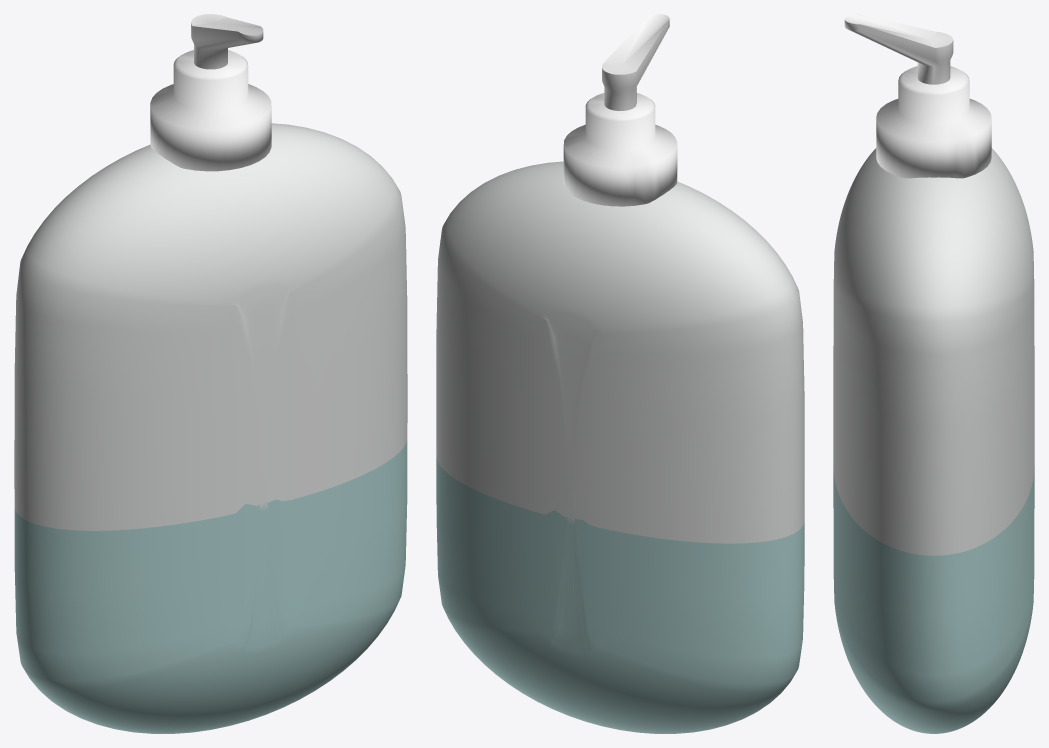
File: sweethome3d-scopia-soap.glb
3 views of the same model, side by side, from view 1: azimuth 30°, elevation 25°; view 2: azimuth 150°, elevation 25°; view 3: azimuth 270°, elevation 25° (orthographic). The views are drawn at different scales.
Parts seen in each view (by area): view 1: 1_1, 2_2, 3_3, 4_4; view 2: 1_1, 2_2, 3_3, 4_4; view 3: 1_1, 2_2, 3_3, 4_4.
Boxes of the visible parts, x1,y1,x2,y2 form: 1_1: (14,123,407,530); 2_2: (14,440,407,733); 3_3: (150,50,271,171); 4_4: (191,14,263,69); 1_1: (436,161,804,543); 2_2: (436,458,804,733); 3_3: (563,93,677,206); 4_4: (602,14,669,110); 1_1: (833,148,1034,555); 2_2: (833,465,1034,733); 3_3: (876,66,991,178); 4_4: (844,14,953,84).
Bounding box in the file's own units: 11.07 × 20.1 × 5.35.
